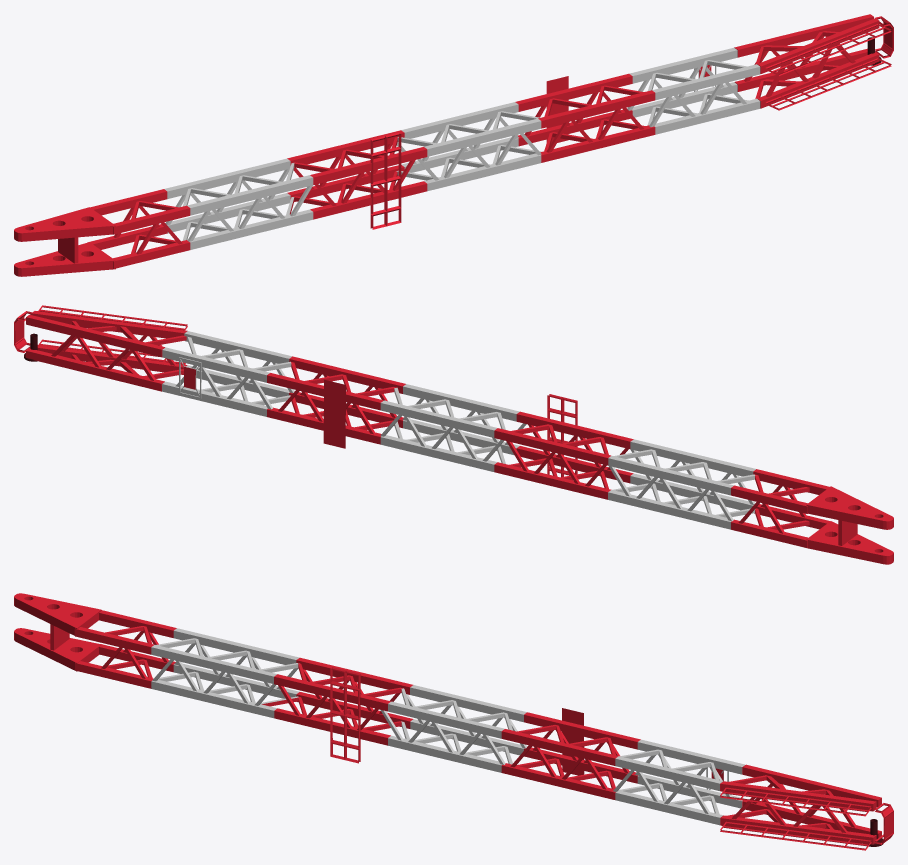
File: crane_boom.glb
3 views of the same model, one above another, from view 1: azimuth 30°, elevation 25°; view 2: azimuth 150°, elevation 25°; view 3: azimuth 330°, elevation 25° (orthographic).
Parts seen in each view (by area): view 1: crane_boom; view 2: crane_boom; view 3: crane_boom.
Part boxes in pixels (x1,y1,x2,y2): crane_boom: (14, 14, 893, 276); crane_boom: (14, 305, 893, 564); crane_boom: (14, 593, 893, 850).
Bounding box in the file's own units: 35.23 × 3.42 × 2.56.
